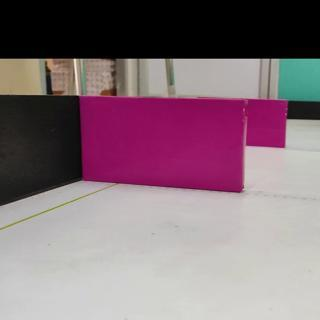xparking: (82, 96, 244, 187), (247, 101, 284, 146)
